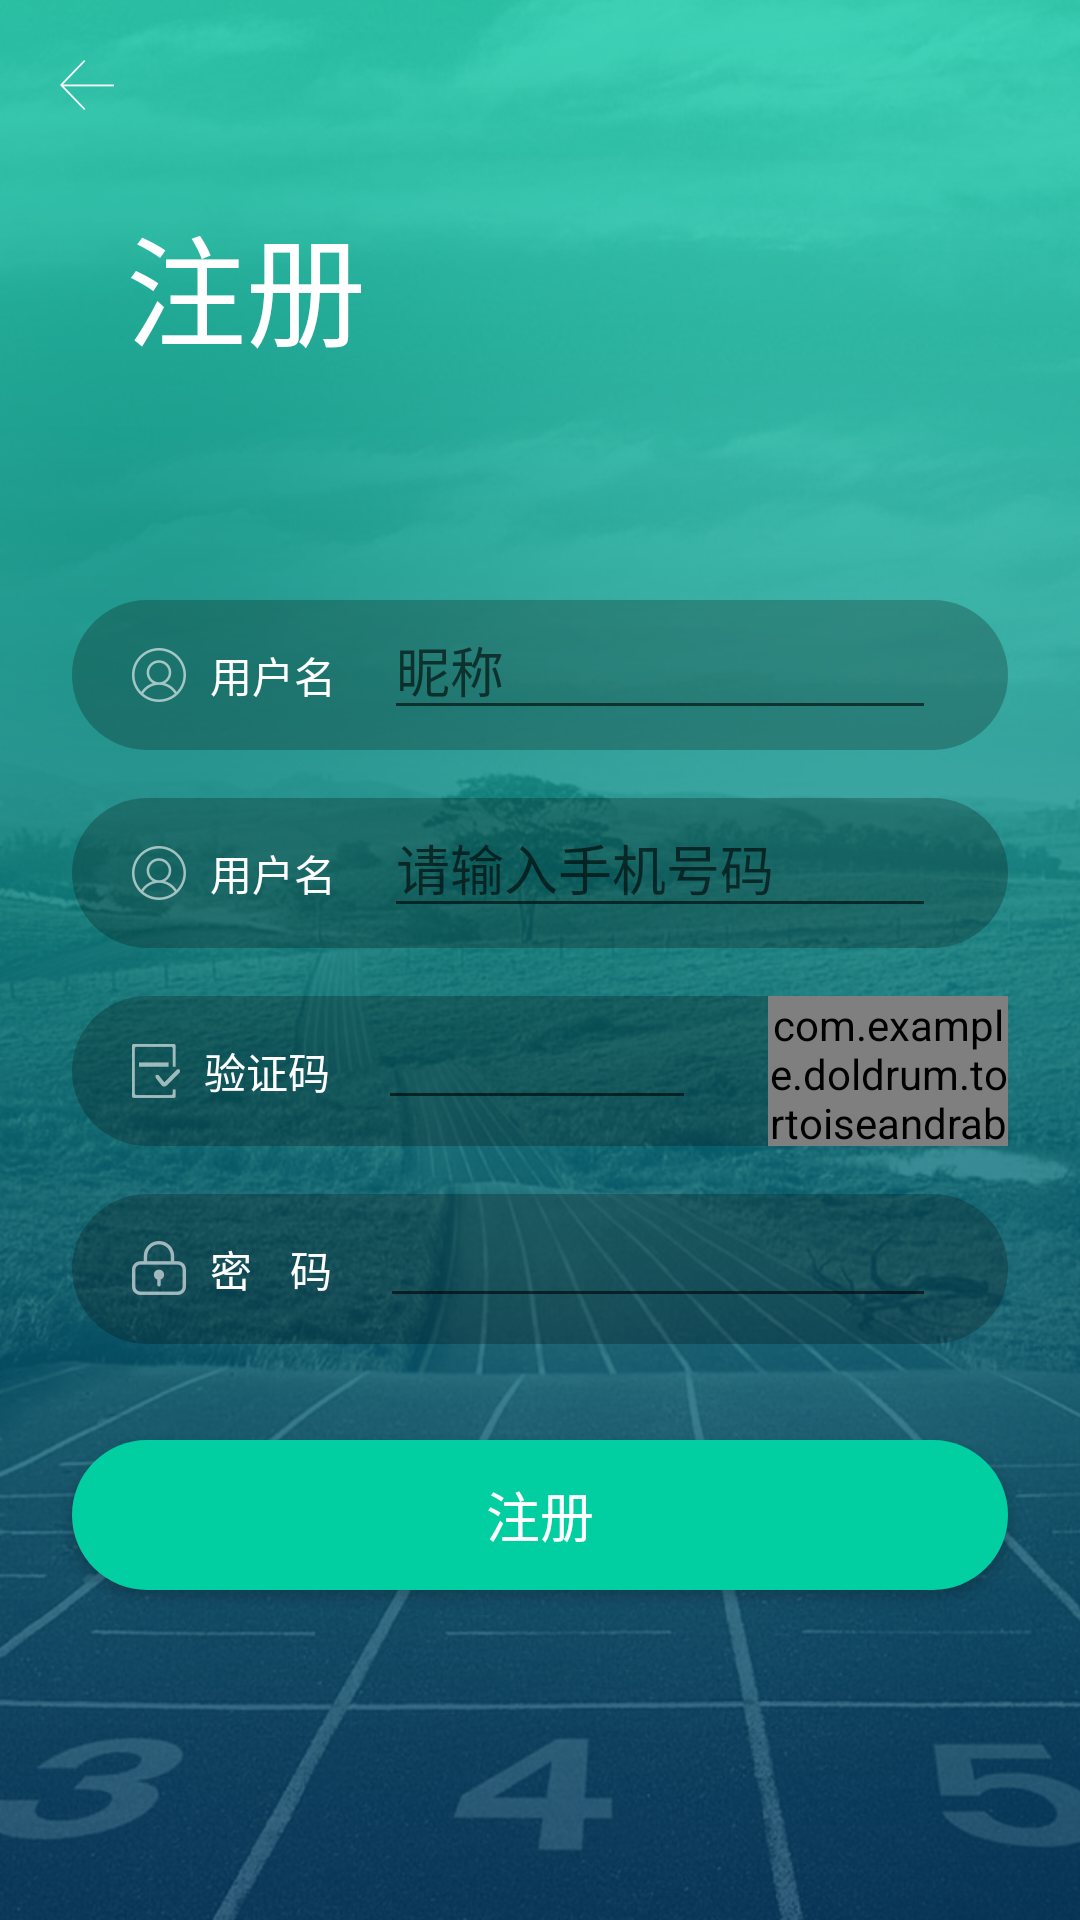

Where to tap for icons on this 1080*1920 app screen, as [x,y]:
back: [87,85]
